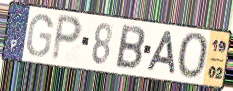8: (90, 22, 114, 67)
A: (144, 30, 177, 78)
B: (114, 23, 147, 72)
G: (25, 13, 55, 59)
O: (176, 31, 210, 82)
P: (49, 12, 84, 64)
